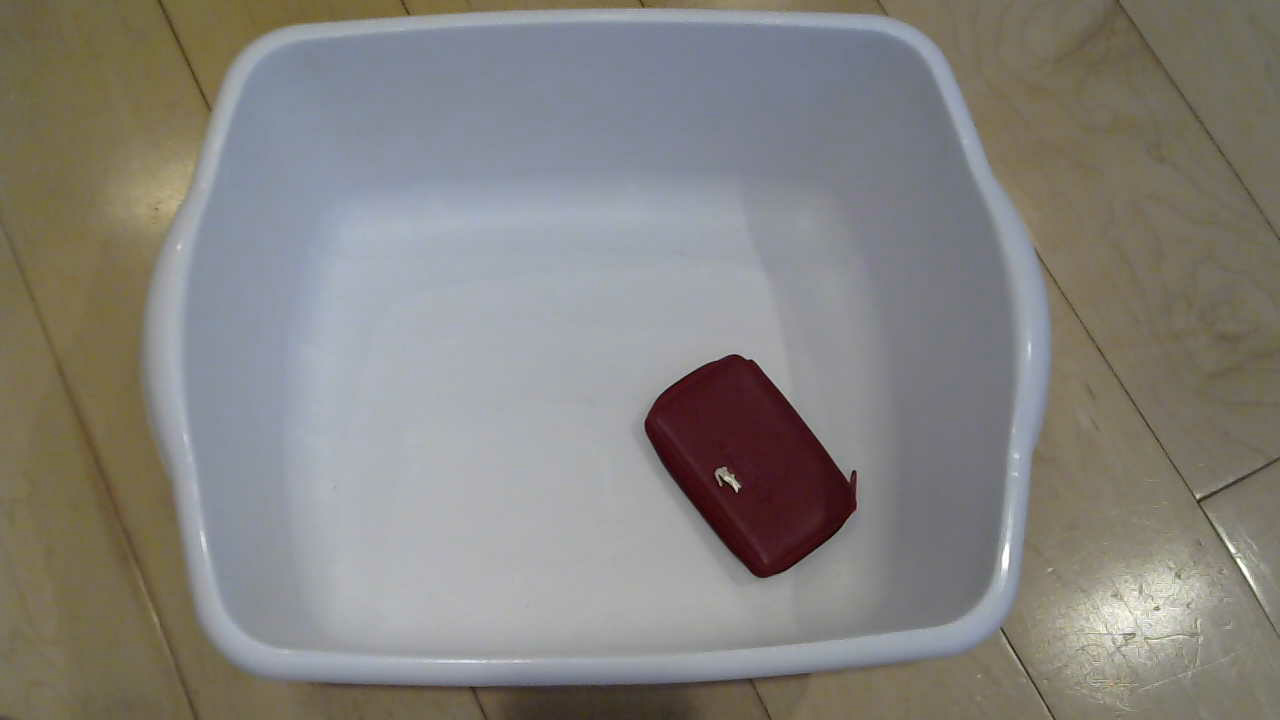wallet: (637, 355, 873, 595)
